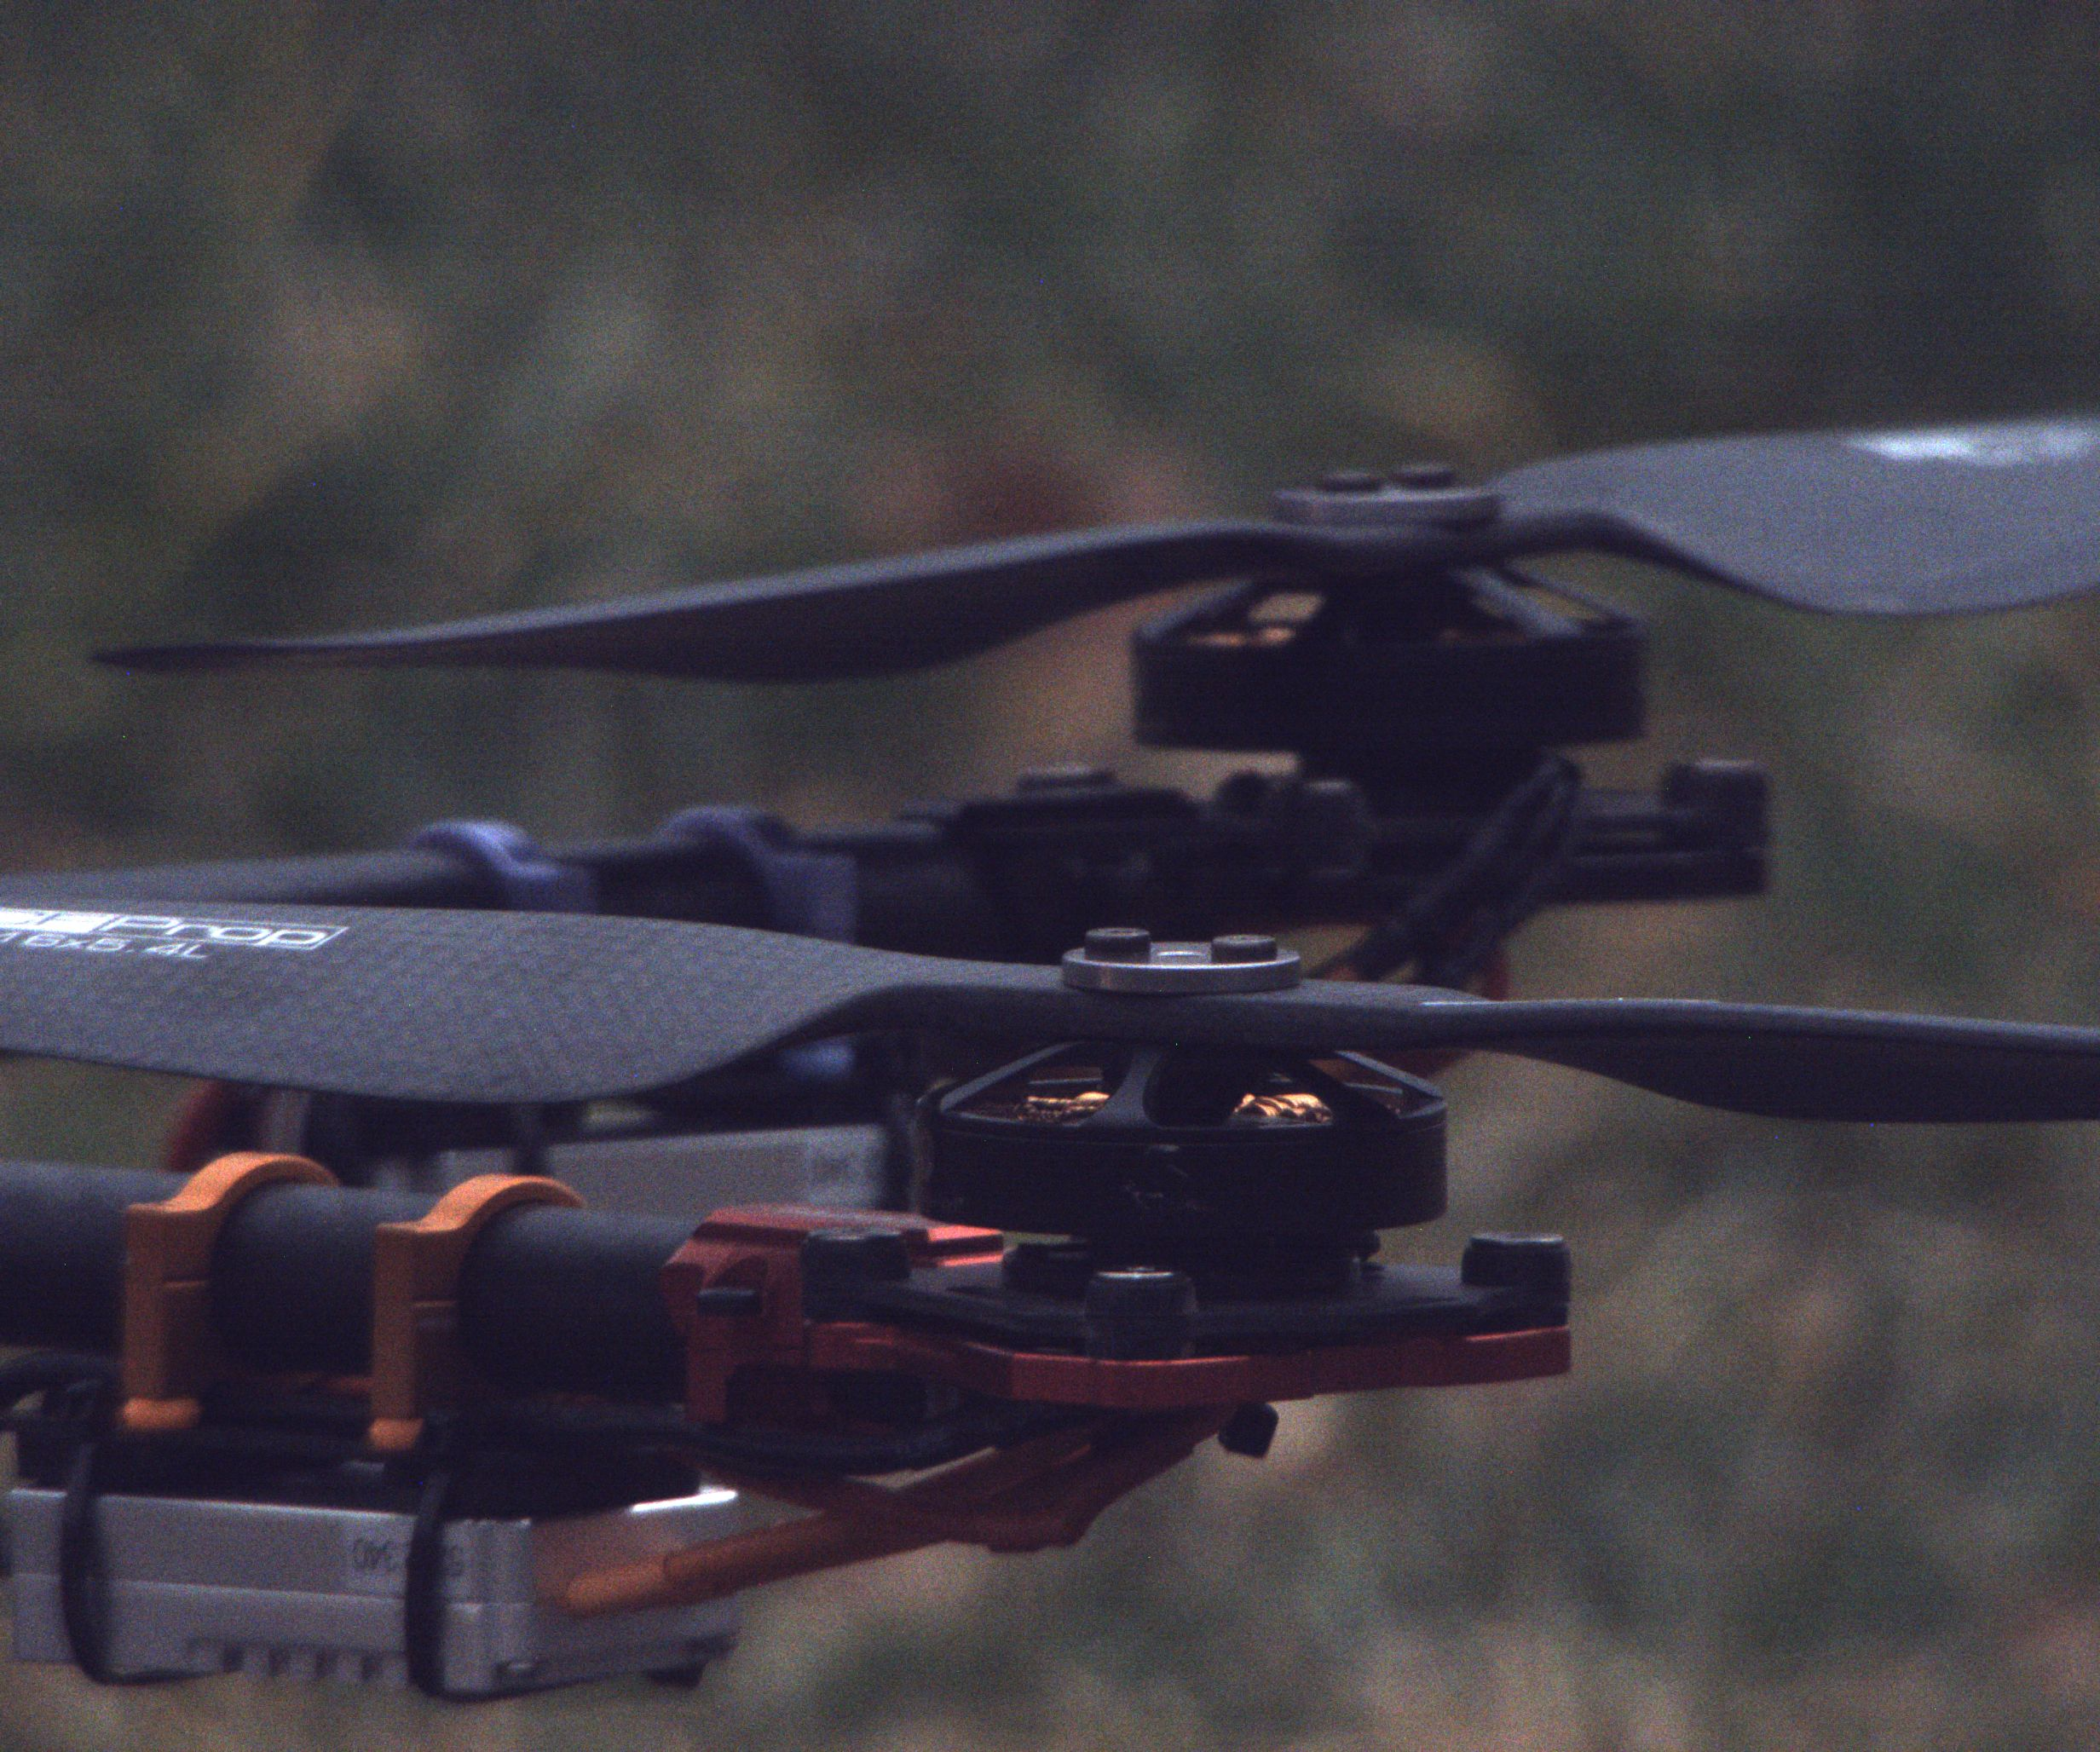Drohne: (9, 401, 2100, 1745)
